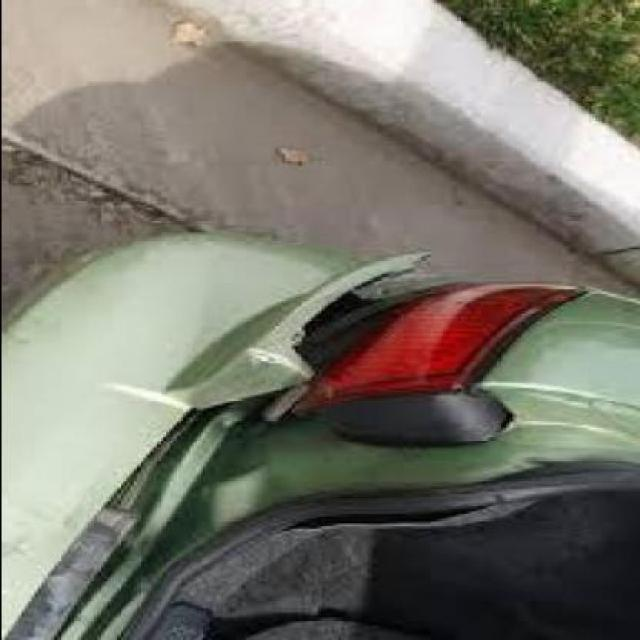damage: (55, 251, 490, 610)
